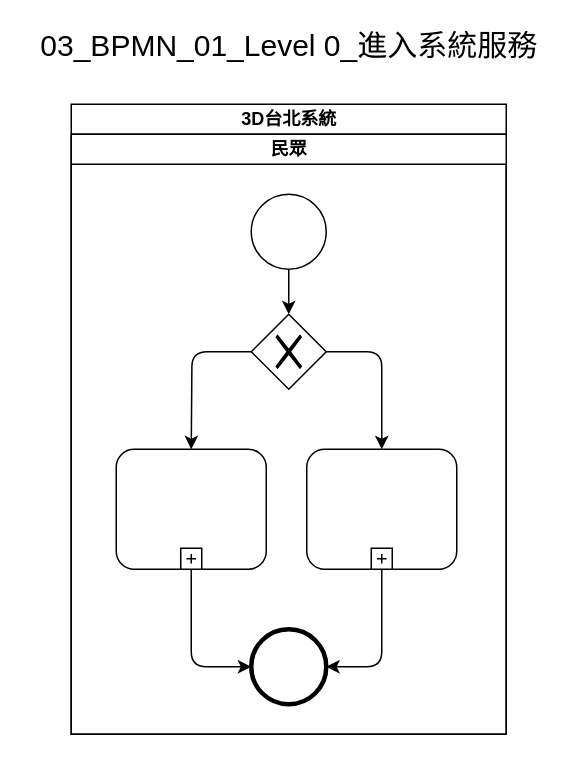
This 576x761 diagram has some shape labels left out. The box of each missing label's shape, as (x1, y1, x2, y2) in pixels:
智慧城市3D台北: (115, 448, 266, 569)
統計資料庫 查詢系統: (305, 448, 457, 569)
